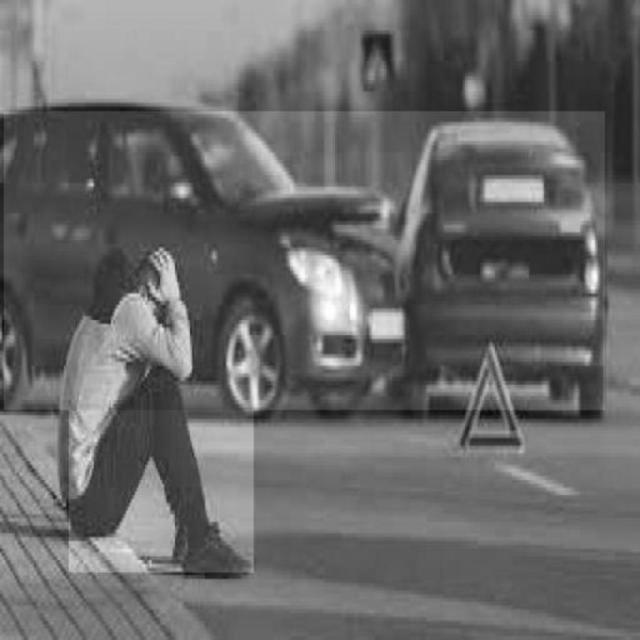accident: (4, 112, 605, 410)
person: (69, 258, 254, 572)
